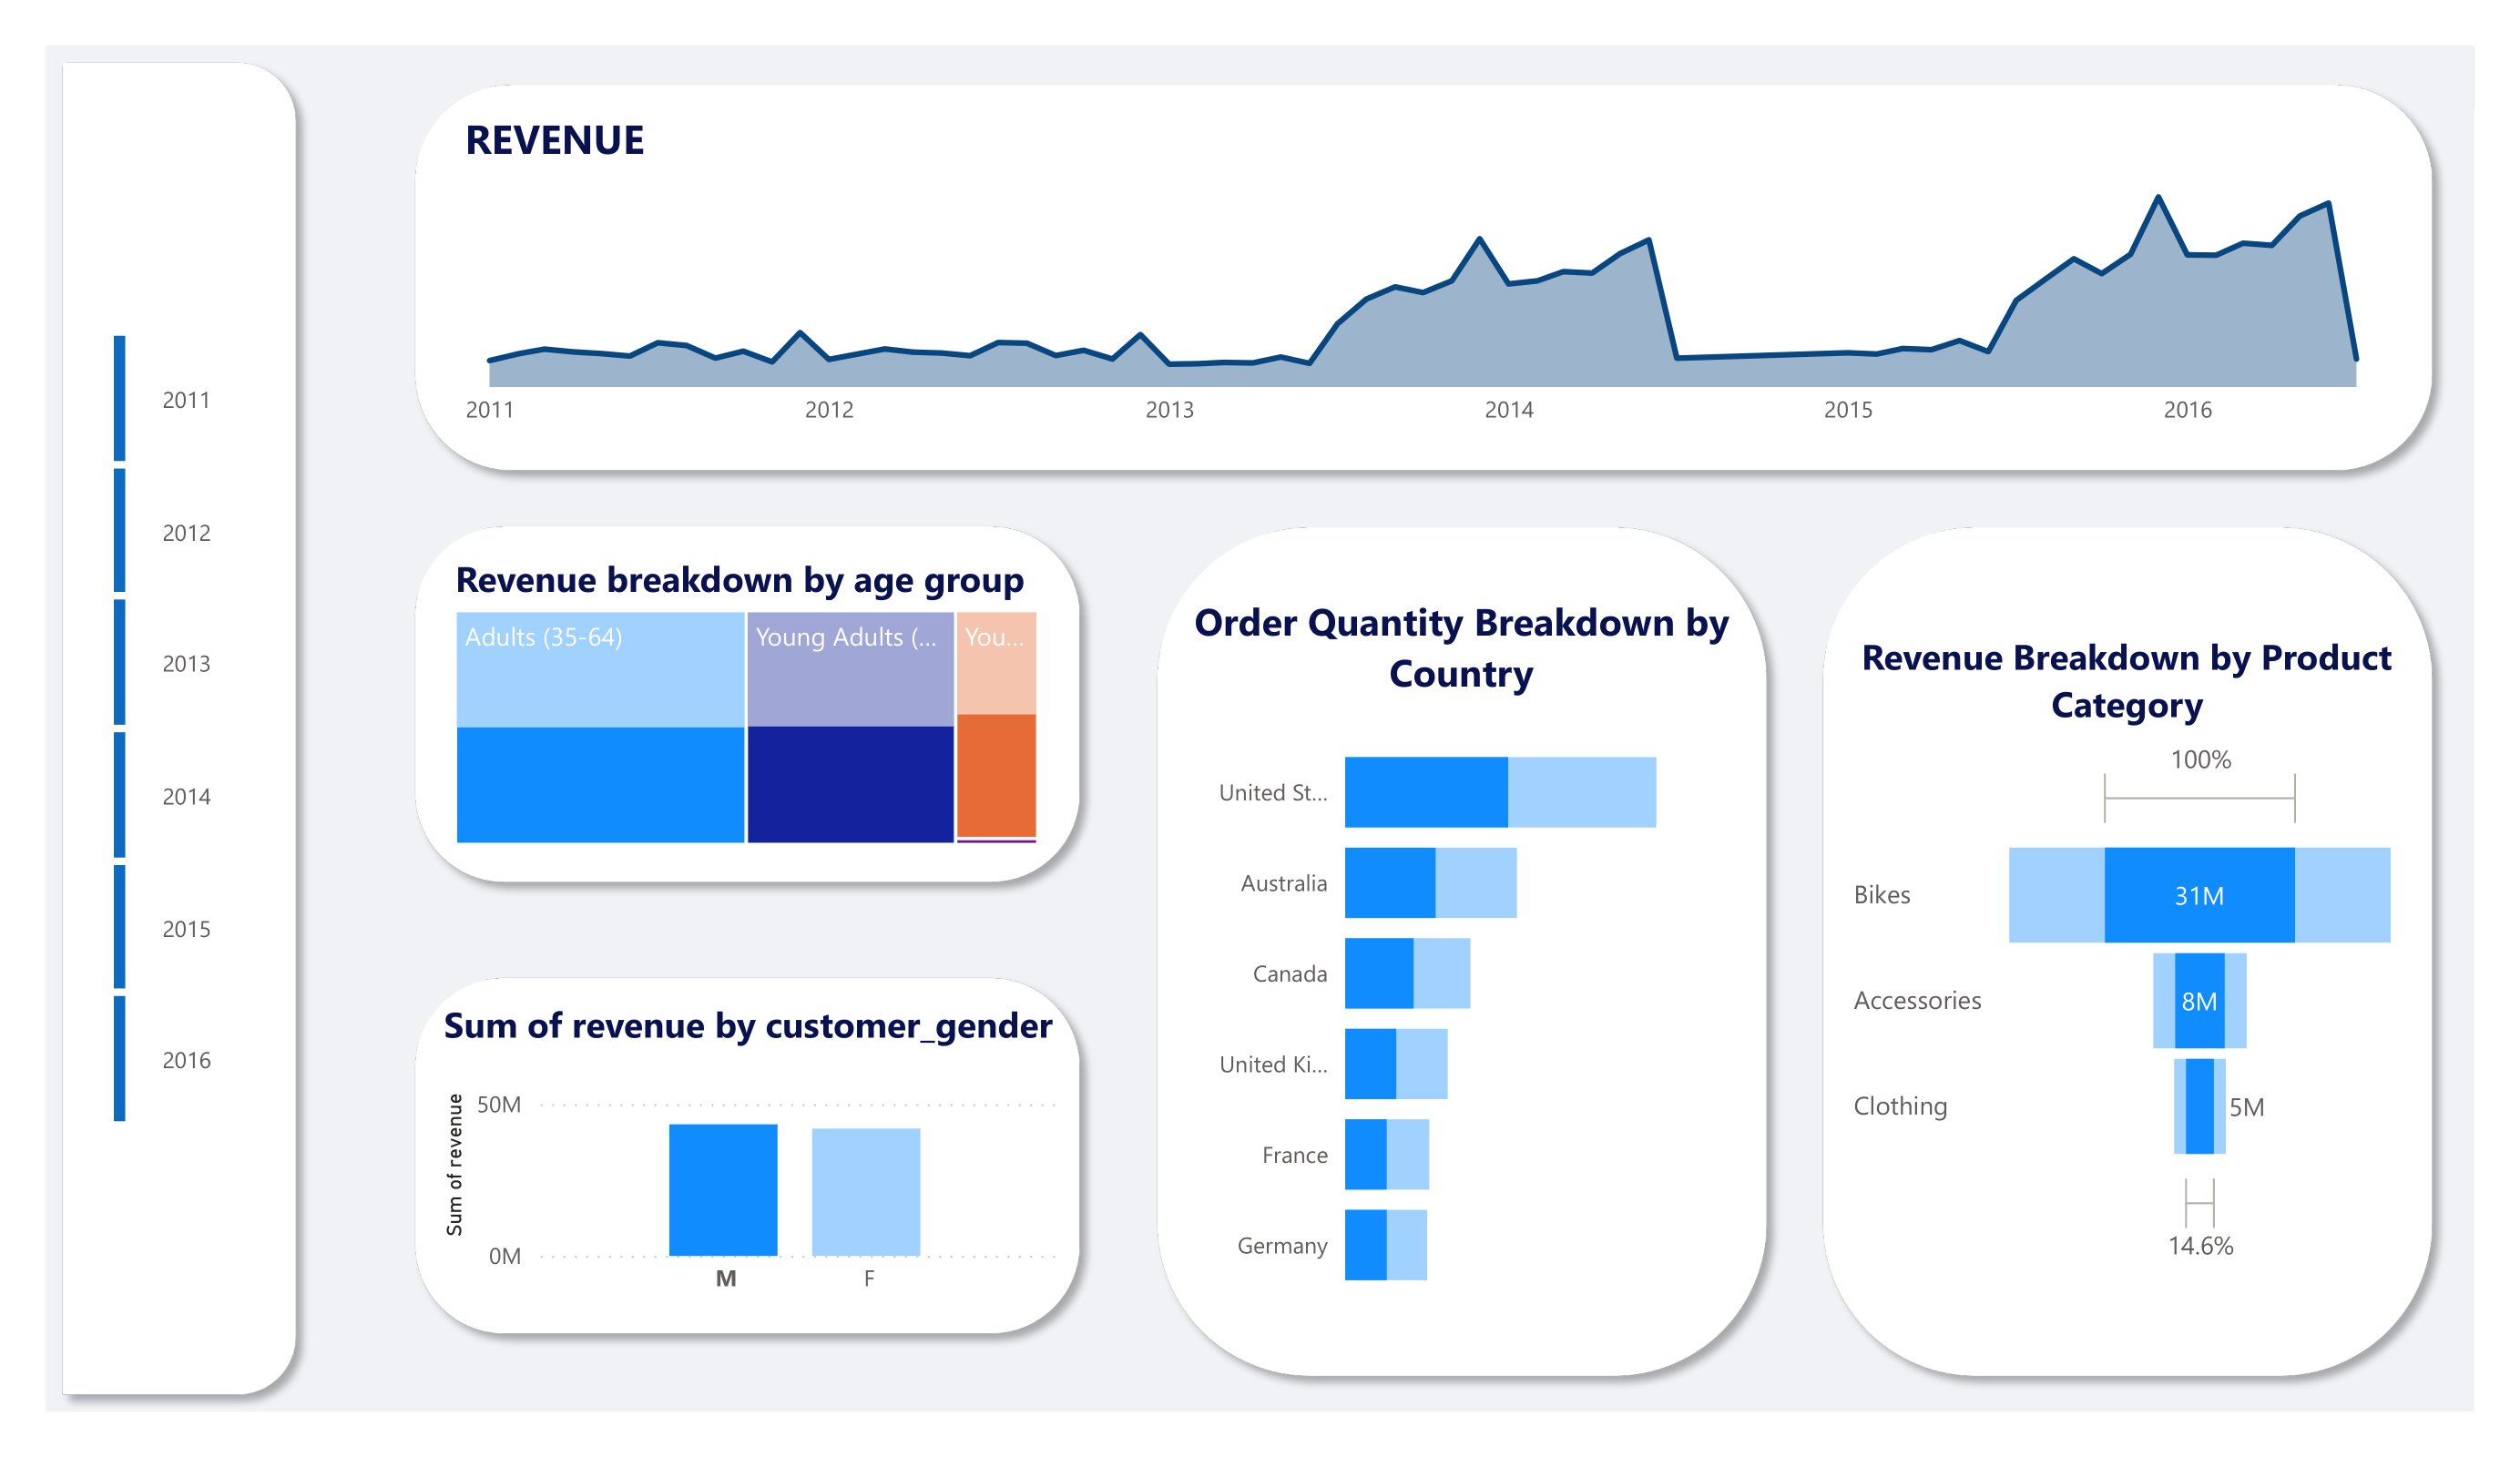

The dashboard page shown, as its layout file describes it:
{"tool":"powerbi","page":{"name":"Page 1","canvas":[1280,720],"ordinal":0},"visuals":[{"type":"shape","box":[0,0,140.9,719.7],"z":0},{"type":"shape","box":[186.2,11.7,1080.4,221.4],"z":1000},{"type":"shape","box":[186.2,244.9,367.4,204.7],"z":2000},{"type":"shape","box":[577.1,244.9,338.9,464.7],"z":4000},{"type":"shape","box":[927.7,244.9,338.9,464.7],"z":5000},{"type":"areaChart","title":"REVENUE","fields":{"Category":["sales raw_data.date.Variation.Date Hierarchy.Year","sales raw_data.date.Variation.Date Hierarchy.Month"],"Y":["Sum(sales raw_data.revenue)"]},"box":[216.4,33.6,1020,176.1],"z":6000},{"type":"clusteredBarChart","title":"Order Quantity Breakdown by Country","fields":{"Category":["sales raw_data.country"],"Y":["Sum(sales raw_data.order_quantity)"]},"box":[597.2,288.5,298.6,387.5],"z":7000},{"type":"treemap","title":"Revenue breakdown by age group","fields":{"Group":["sales raw_data.age_group"],"Values":["Sum(sales raw_data.revenue)"]},"box":[211.4,268.4,317.1,157.7],"z":9000},{"type":"slicer","fields":{"Values":["sales raw_data.date.Variation.Date Hierarchy.Year"]},"box":[10.1,146,120.8,427.8],"z":10000},{"type":"funnel","title":"Revenue Breakdown by Product Category","fields":{"Category":["sales raw_data.product_category"],"Y":["Sum(sales raw_data.revenue)"]},"box":[947.8,308.7,298.6,338.9],"z":11000},{"type":"shape","box":[186.2,483.1,367.4,204.7],"z":11001},{"type":"clusteredColumnChart","fields":{"Category":["sales raw_data.customer_gender"],"Y":["Sum(sales raw_data.revenue)"]},"box":[204.7,503.3,332.2,164.4],"z":11002}]}

Visuals, with their boxes in screenshot pixels (x1, y1, x2, y2):
shape: box(46, 46, 313, 1411)
shape: box(399, 67, 2449, 488)
shape: box(399, 510, 1096, 899)
shape: box(1140, 510, 1784, 1391)
shape: box(1806, 510, 2449, 1391)
"REVENUE" areaChart: box(456, 109, 2392, 443)
"Order Quantity Breakdown by Country" clusteredBarChart: box(1178, 593, 1745, 1328)
"Revenue breakdown by age group" treemap: box(446, 555, 1048, 854)
slicer - sales raw_data.date.Variation.Date Hierarchy.Year: box(65, 322, 294, 1134)
"Revenue Breakdown by Product Category" funnel: box(1844, 631, 2411, 1274)
shape: box(399, 962, 1096, 1350)
clusteredColumnChart - sales raw_data.customer_gender x Sum(sales raw_data.revenue): box(434, 1001, 1065, 1312)
